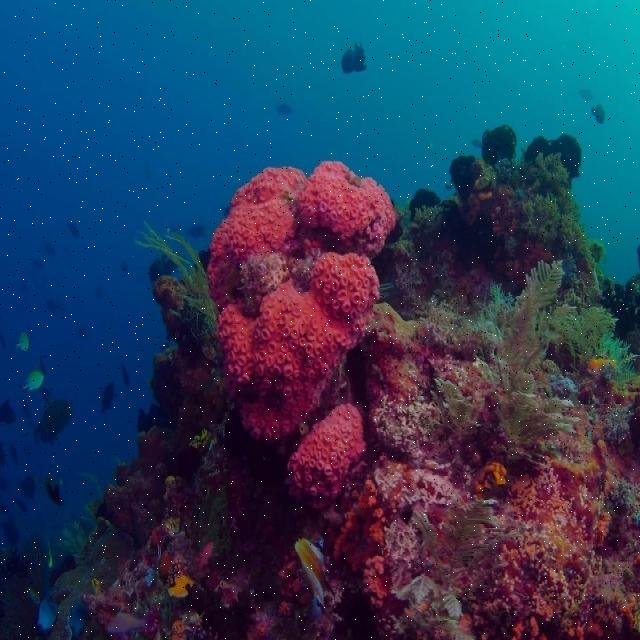aquatic plants: (464, 260, 639, 442), (399, 501, 499, 638), (137, 220, 215, 336)
fish: (31, 398, 73, 442), (342, 43, 365, 76), (21, 369, 46, 392), (17, 334, 29, 352)
reefs: (207, 158, 396, 508), (334, 479, 388, 608)
